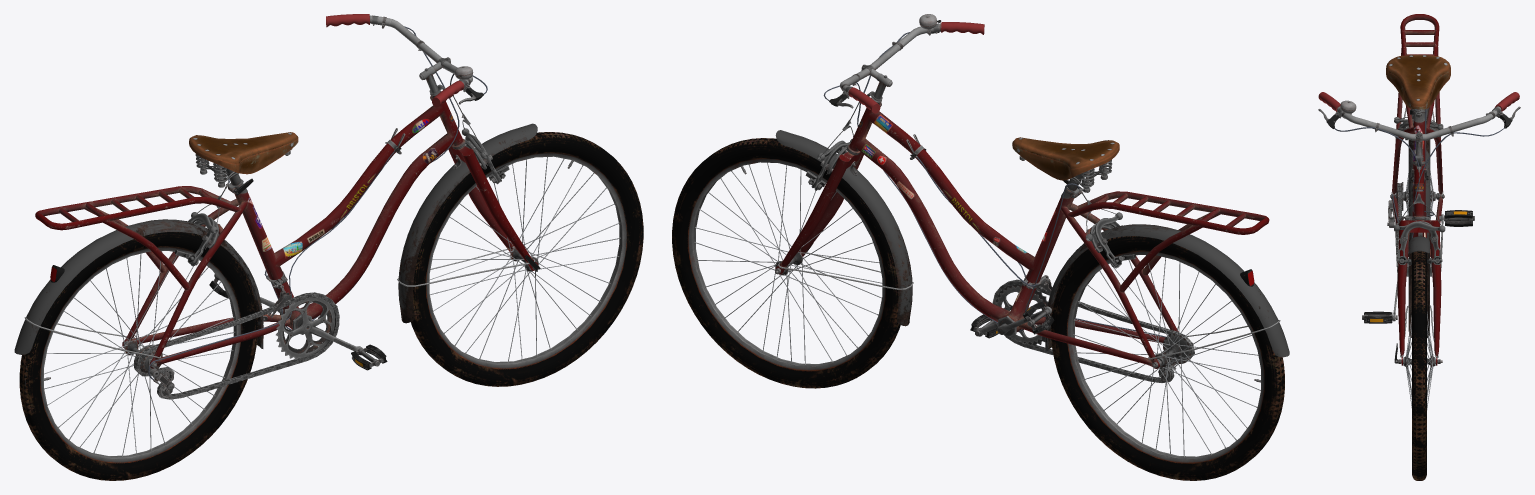
The picture shows the model from 3 angles, left to right: view 1: azimuth 30°, elevation 25°; view 2: azimuth 150°, elevation 25°; view 3: azimuth 270°, elevation 25°; orthographic projection. The views are drawn at different scales.
Parts seen in each view (by area): view 1: rama_low; view 2: rama_low; view 3: rama_low.
Boxes of the visible parts, <box> form: rama_low: <box>14,14,643,480</box>; rama_low: <box>672,14,1289,480</box>; rama_low: <box>1318,14,1520,480</box>.
Size of the model in its own units: 906 by 511 by 290.
7 materials, 7 textured.
